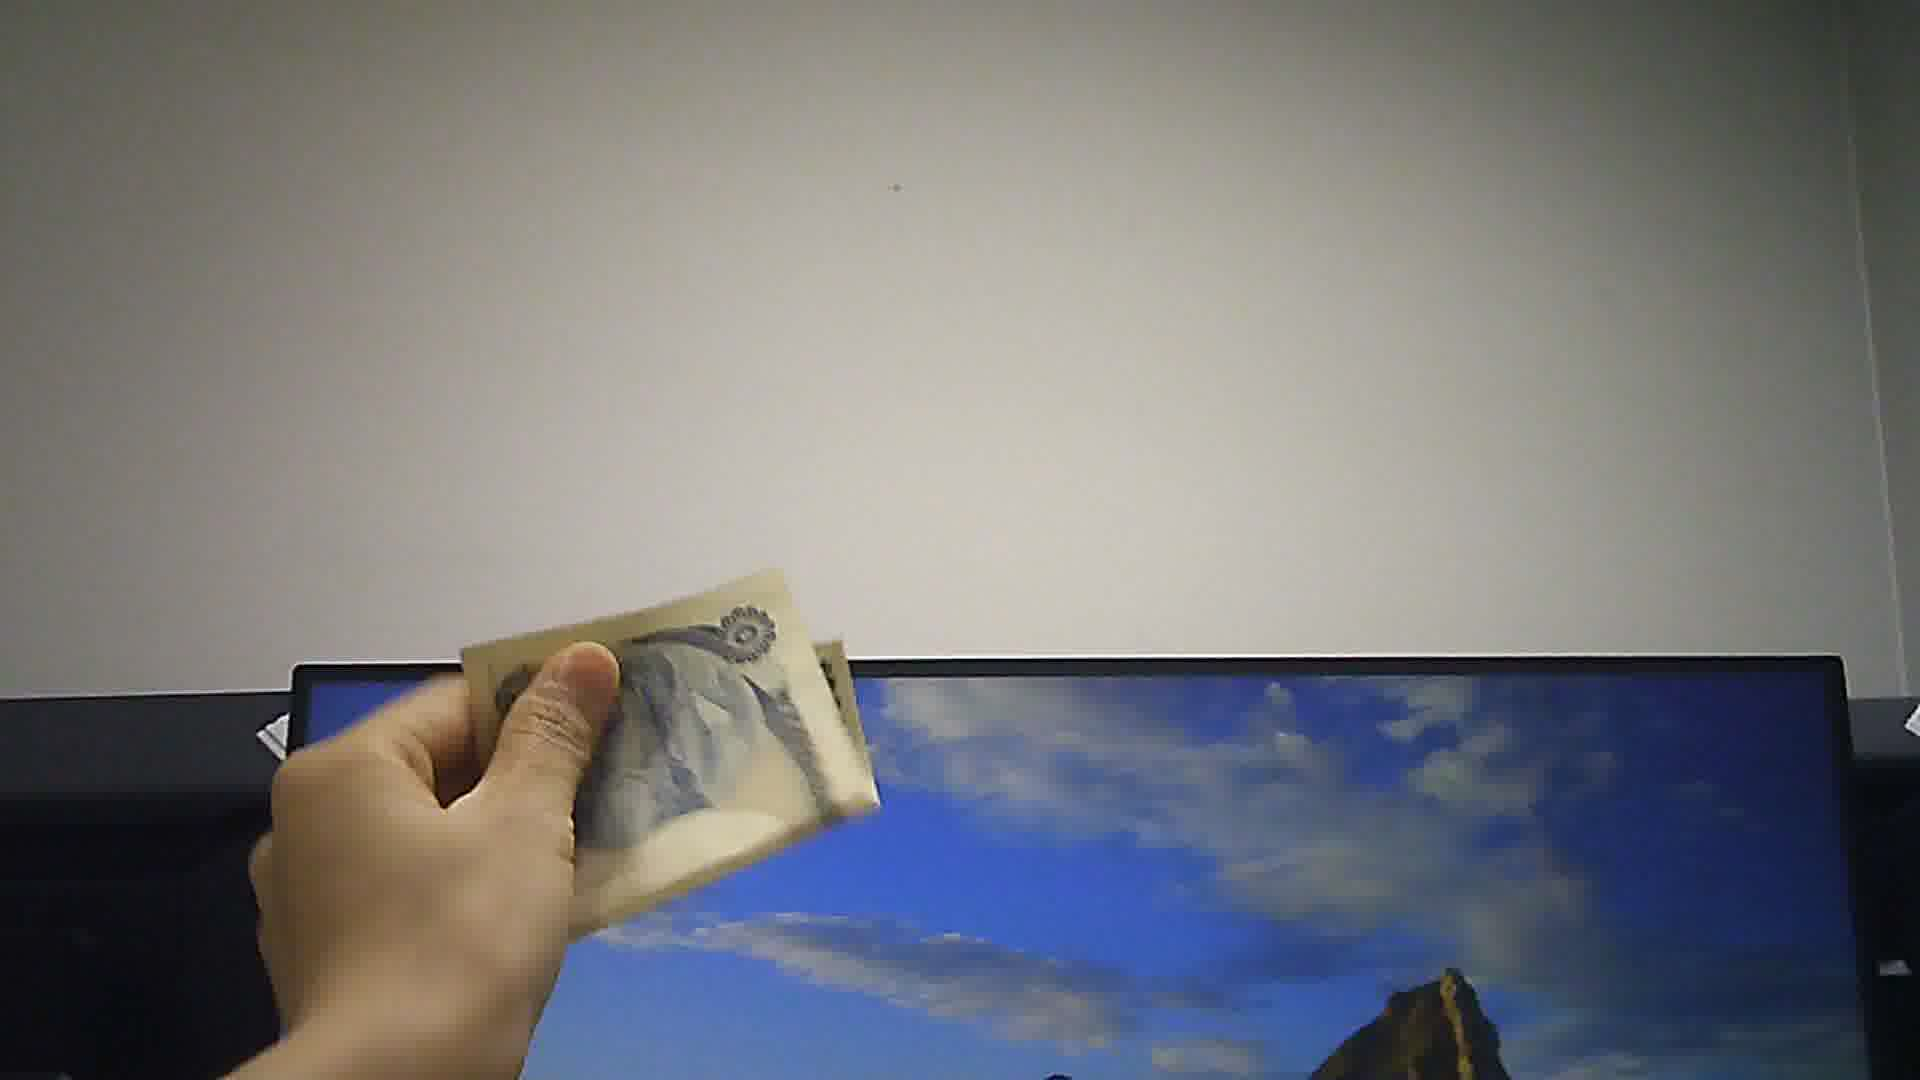1,000 Yen: (462, 568, 874, 913)
